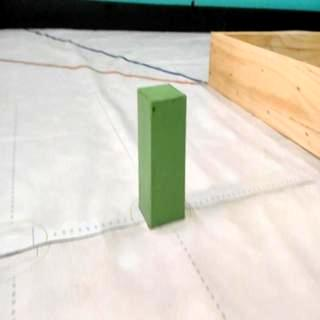greenbox: (136, 81, 188, 232)
